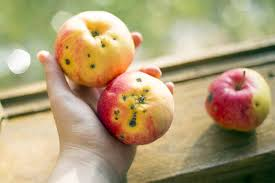damaged_apple: (98, 71, 175, 144), (56, 11, 134, 82), (208, 69, 275, 133)
